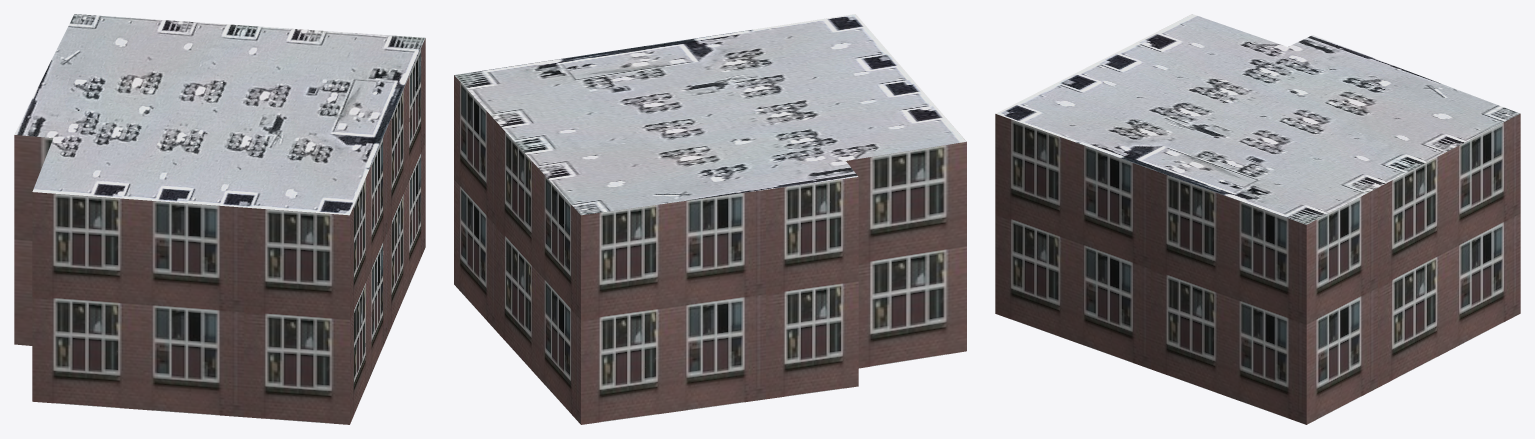
File: ResTex__1653.fbx
3 renders of one model, left to right at view 1: azimuth 30°, elevation 25°; view 2: azimuth 150°, elevation 25°; view 3: azimuth 270°, elevation 25°, orthographic. The views are drawn at different scales.
Visible parts, largest first — view 1: CityEngineMaterial_12_m, CityEngineMaterial_4_m; view 2: CityEngineMaterial_12_m, CityEngineMaterial_4_m; view 3: CityEngineMaterial_12_m, CityEngineMaterial_4_m.
Part boxes in pixels (left/top/right/bottom): CityEngineMaterial_12_m: left=14, top=38, right=425, bottom=424; CityEngineMaterial_4_m: left=14, top=14, right=425, bottom=215; CityEngineMaterial_12_m: left=454, top=75, right=966, bottom=424; CityEngineMaterial_4_m: left=454, top=14, right=966, bottom=215; CityEngineMaterial_12_m: left=995, top=113, right=1520, bottom=424; CityEngineMaterial_4_m: left=996, top=14, right=1519, bottom=224.
Size of the model in its own units: 13.57 by 6 by 14.27.
Materials: 2 (2 with a texture image).
